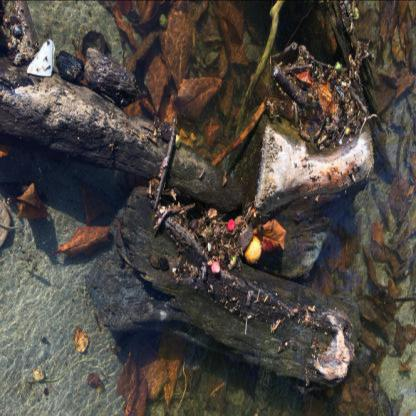Bottle: (211, 261, 220, 274), (227, 219, 235, 230)
Other plastic: (27, 40, 55, 76), (336, 86, 343, 97)
